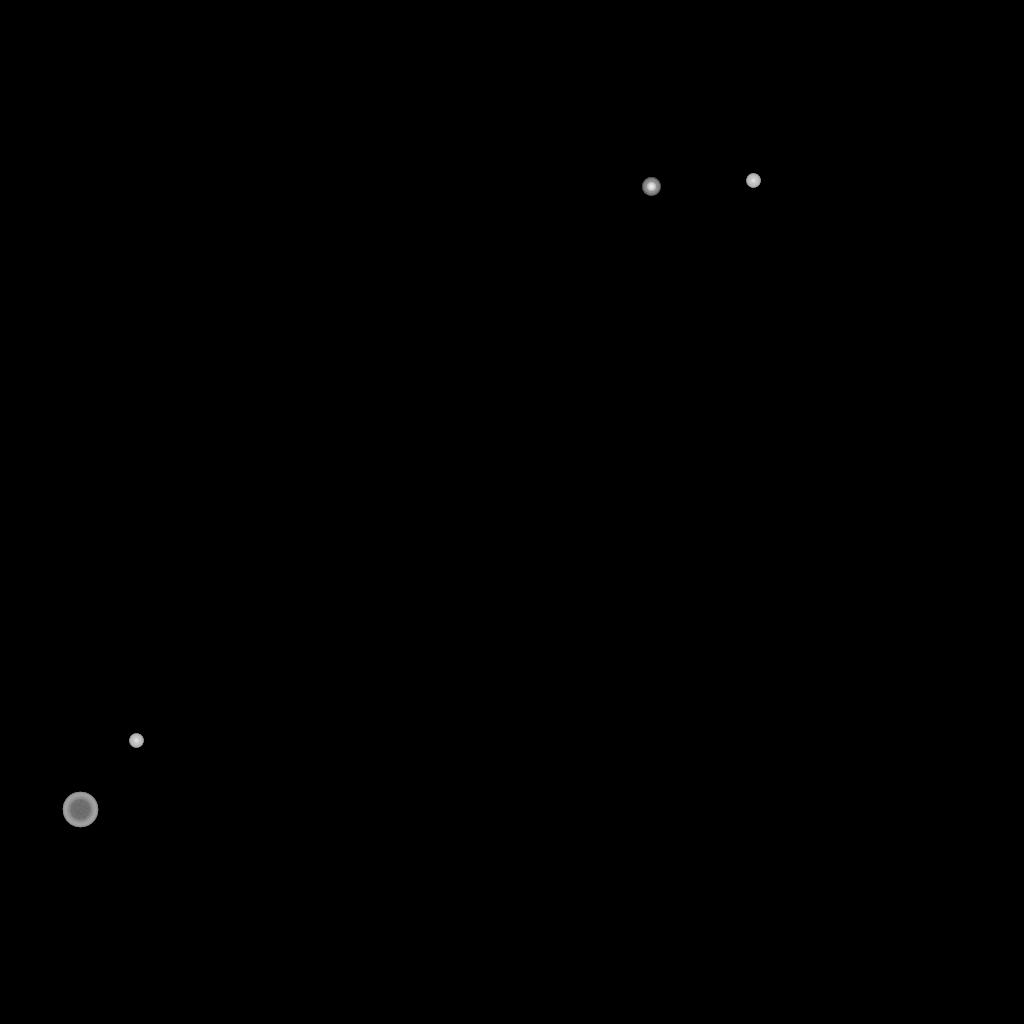depth:-20: (642, 178, 660, 196)
depth:-30: (129, 734, 143, 748), (746, 174, 760, 188)
depth:-60: (62, 792, 98, 828)
